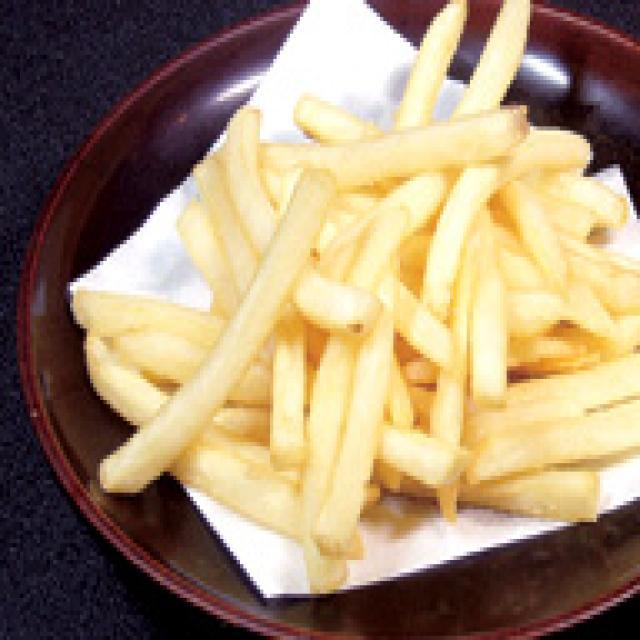French Fries: (115, 89, 634, 539)
